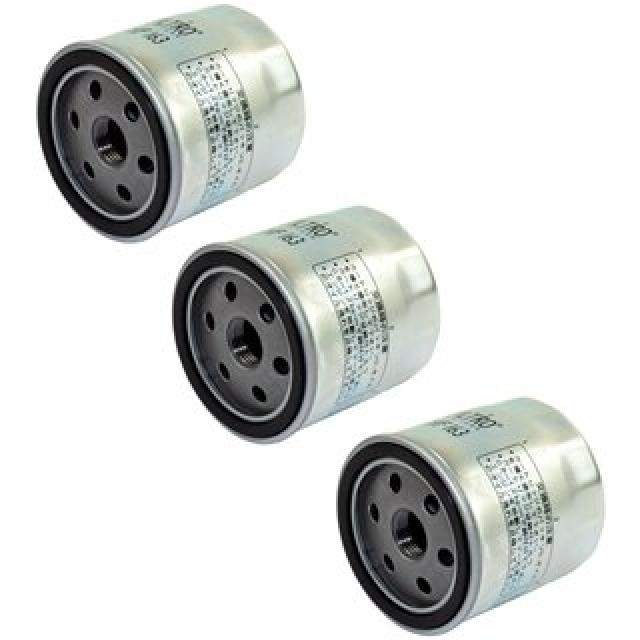oil_filter: (0, 0, 312, 240), (338, 420, 632, 638), (166, 222, 460, 408)
